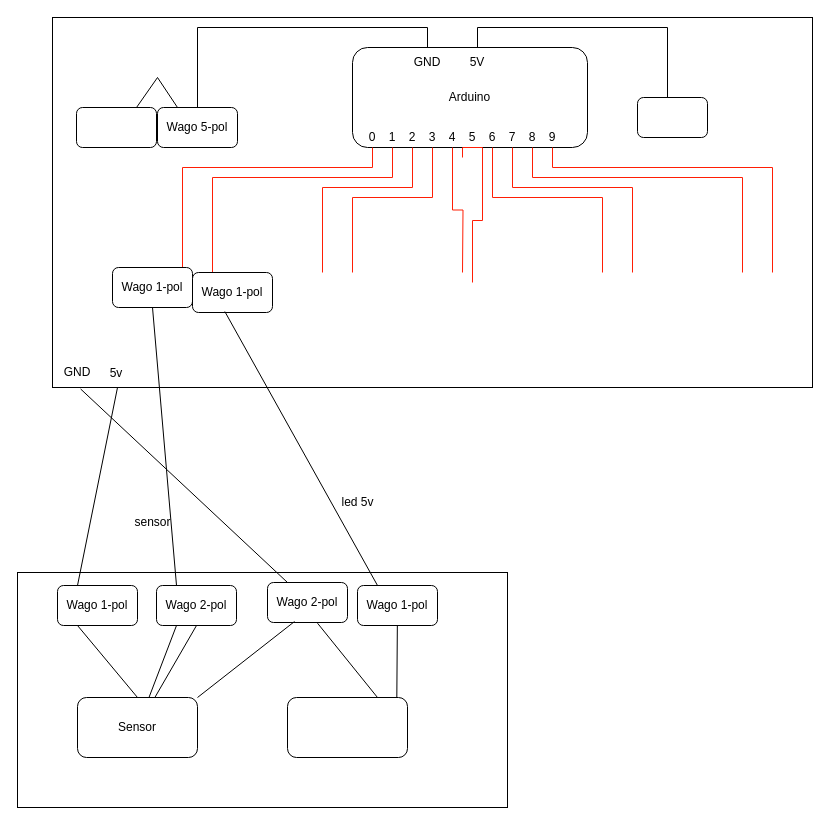
This 830x825 diagram has some shape labels left out. Here are the shapes that lost their labels. From the top down, the centre of each, then its label:
At (116,127): "Wago 3-pol".
At (672,117): "Wago 6-pol".
At (347,727): "LED".
